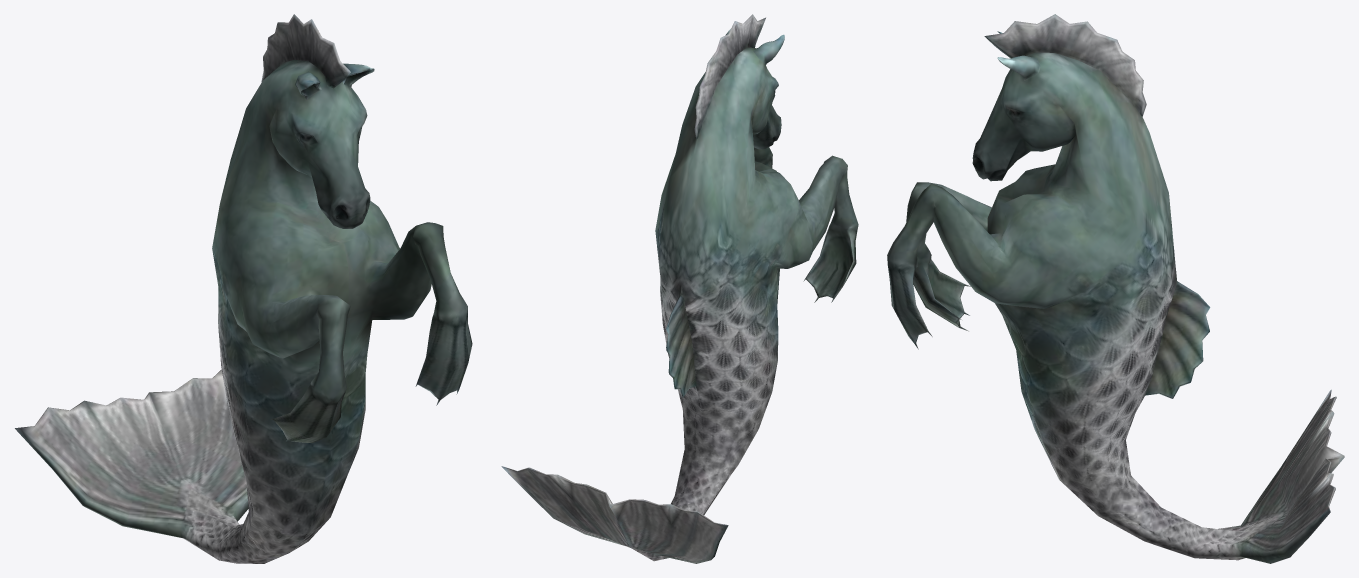
File: 19-hippocampus.glb
The picture shows the model from 3 angles, left to right: view 1: azimuth 30°, elevation 25°; view 2: azimuth 150°, elevation 25°; view 3: azimuth 270°, elevation 25°; orthographic projection. The views are drawn at different scales.
Size of the model in its own units: 1.92 by 3.88 by 2.95.
Materials: 1 (1 with a texture image).
